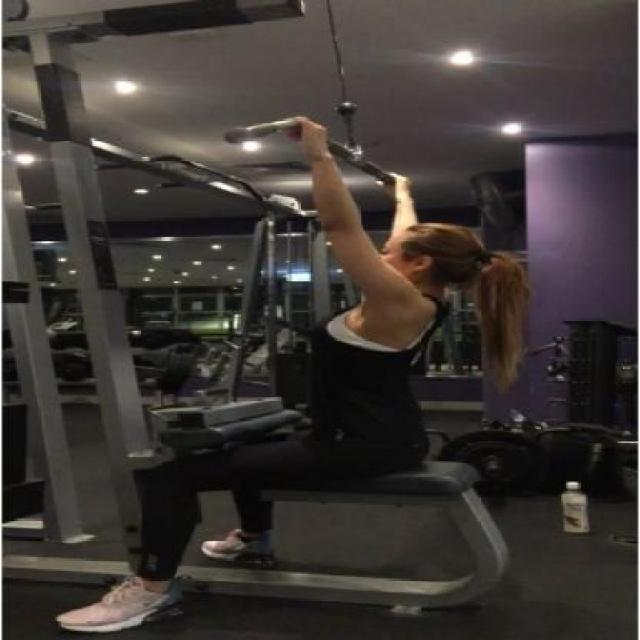Lat Pull Down: (0, 0, 568, 640)
